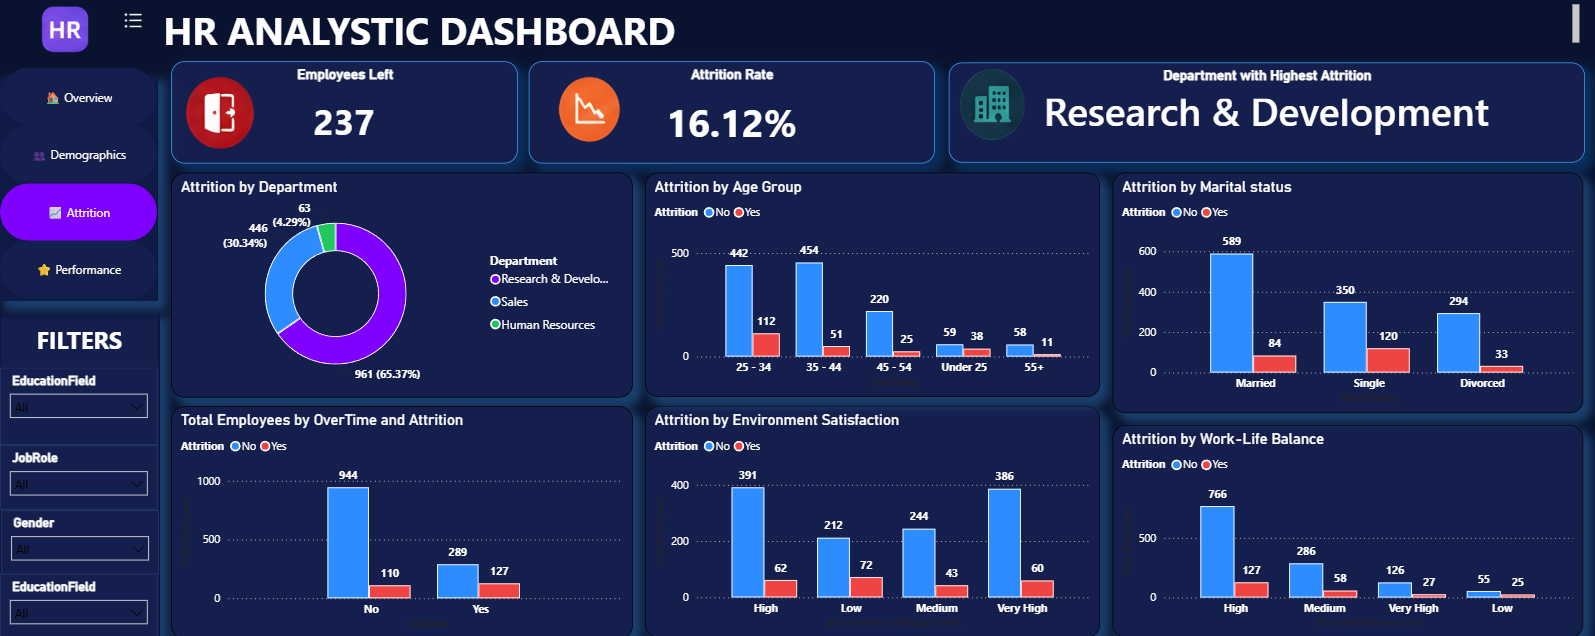

Layout of this report page (visuals, bound fields, positions):
{"tool":"powerbi","page":{"name":" 📈 Attrition","canvas":[1800,720],"ordinal":2},"visuals":[{"type":"cardVisual","title":"Employees Left","fields":{"Data":["HR_Cleaned.Employees Left"]},"box":[192.6,68.5,390.7,114.8],"z":0},{"type":"shape","box":[0,85.5,177.4,253.2],"z":1000},{"type":"shape","box":[1,353,178,367],"z":2000},{"type":"textbox","box":[179.1,0,1606,59.7],"z":3000},{"type":"cardVisual","title":"Attrition Rate","fields":{"Data":["HR_Cleaned.Attrition Rate"]},"box":[596.3,68.5,457.4,114.8],"z":4000},{"type":"cardVisual","title":"Department with Highest Attrition","fields":{"Data":["HR_Cleaned.Department with Highest Attrition"]},"box":[1068.5,70.4,716.7,113],"z":5000},{"type":"donutChart","title":"Attrition by Department","fields":{"Category":["HR_Cleaned.Department"],"Y":["CountNonNull(HR_Cleaned.Attrition)"]},"box":[193.3,194.7,520,253.3],"z":6000},{"type":"clusteredColumnChart","fields":{"Category":["HR_Cleaned.OverTime"],"Series":["HR_Cleaned.Attrition"],"Y":["HR_Cleaned.Total Employees"]},"box":[193,458,520,262],"z":7000},{"type":"clusteredColumnChart","title":"Attrition by Environment Satisfaction","fields":{"Y":["HR_Cleaned.Total Employees"],"Category":["HR_Cleaned.Environment Satisfaction Level"],"Series":["HR_Cleaned.Attrition"]},"box":[727,458,513,261],"z":8000},{"type":"clusteredColumnChart","title":"Attrition by Work-Life Balance","fields":{"Y":["HR_Cleaned.Total Employees"],"Category":["HR_Cleaned.Work-Life Balance Level"],"Series":["HR_Cleaned.Attrition"]},"box":[1254,479,530,240],"z":9000},{"type":"clusteredColumnChart","title":"Attrition by Age Group","fields":{"Category":["HR_Cleaned.Age Group"],"Y":["HR_Cleaned.Total Employees"],"Series":["HR_Cleaned.Attrition"]},"box":[727,195,513,253],"z":10000},{"type":"clusteredColumnChart","title":"Attrition by Marital status","fields":{"Y":["HR_Cleaned.Total Employees"],"Category":["HR_Cleaned.MaritalStatus"],"Series":["HR_Cleaned.Attrition"]},"box":[1254,195,530,271],"z":11000},{"type":"slicer","fields":{"Values":["HR_Cleaned.EducationField"]},"box":[0,414.5,177.4,87.1],"z":12000},{"type":"slicer","fields":{"Values":["HR_Cleaned.JobRole"]},"box":[0,501.6,177.4,72.6],"z":13000},{"type":"slicer","fields":{"Values":["HR_Cleaned.Gender"]},"box":[1.6,574.2,177.4,72.6],"z":14000},{"type":"slicer","fields":{"Values":["HR_Cleaned.EducationField"]},"box":[0,646.8,177.4,72.6],"z":15000},{"type":"textbox","box":[1.6,359.7,175.8,54.8],"z":16000},{"type":"image","box":[0,0,193.2,68.9],"z":17000},{"type":"image","box":[168.5,59.3,163,133.3],"z":18000},{"type":"image","box":[583.3,61.1,157.4,131.5],"z":19000},{"type":"image","box":[1040.7,51.9,157.4,131.5],"z":20000},{"type":"pageNavigator","box":[0,76.2,177.5,262.5],"z":21000}]}

Visuals, with their boxes on the page's 1800x720 design canvas (x1, y1, x2, y2). These are canvas units, not pixel positions in the 1595x636 screenshot, which may show the page scaled, cropped or inside an application window:
"Employees Left" cardVisual: [x1=193, y1=68, x2=583, y2=183]
shape: [x1=0, y1=86, x2=177, y2=339]
shape: [x1=1, y1=353, x2=179, y2=720]
textbox: [x1=179, y1=0, x2=1785, y2=60]
"Attrition Rate" cardVisual: [x1=596, y1=68, x2=1054, y2=183]
"Department with Highest Attrition" cardVisual: [x1=1068, y1=70, x2=1785, y2=183]
"Attrition by Department" donutChart: [x1=193, y1=195, x2=713, y2=448]
clusteredColumnChart - HR_Cleaned.OverTime x HR_Cleaned.Attrition: [x1=193, y1=458, x2=713, y2=720]
"Attrition by Environment Satisfaction" clusteredColumnChart: [x1=727, y1=458, x2=1240, y2=719]
"Attrition by Work-Life Balance" clusteredColumnChart: [x1=1254, y1=479, x2=1784, y2=719]
"Attrition by Age Group" clusteredColumnChart: [x1=727, y1=195, x2=1240, y2=448]
"Attrition by Marital status" clusteredColumnChart: [x1=1254, y1=195, x2=1784, y2=466]
slicer - HR_Cleaned.EducationField: [x1=0, y1=414, x2=177, y2=502]
slicer - HR_Cleaned.JobRole: [x1=0, y1=502, x2=177, y2=574]
slicer - HR_Cleaned.Gender: [x1=2, y1=574, x2=179, y2=647]
slicer - HR_Cleaned.EducationField: [x1=0, y1=647, x2=177, y2=719]
textbox: [x1=2, y1=360, x2=177, y2=414]
image: [x1=0, y1=0, x2=193, y2=69]
image: [x1=168, y1=59, x2=332, y2=193]
image: [x1=583, y1=61, x2=741, y2=193]
image: [x1=1041, y1=52, x2=1198, y2=183]
pageNavigator: [x1=0, y1=76, x2=178, y2=339]
